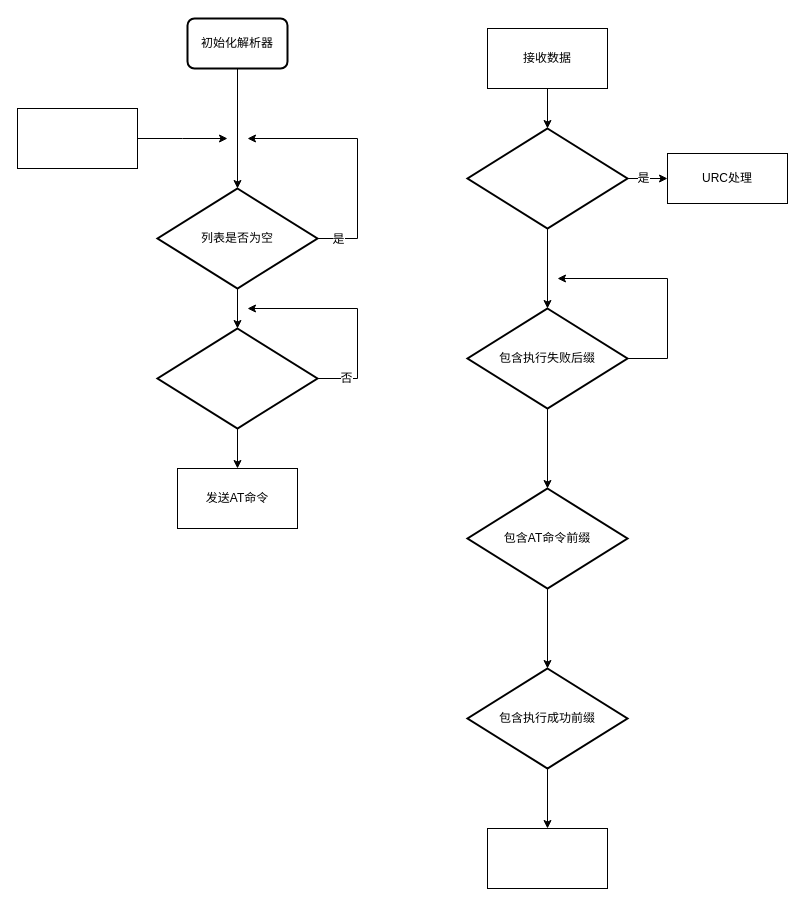
Image size: 805x906. Some labels were removed from this diagram. The shapes that lost their labels are listed below. From the top down, each one's centre as x and y in pixels, then its label:
At (77,138): "注册AT指令到列表".
At (547,178): "是否包含URC头".
At (237,378): "当前指令是否处理完成".
At (547,858): "执行回调函数".
